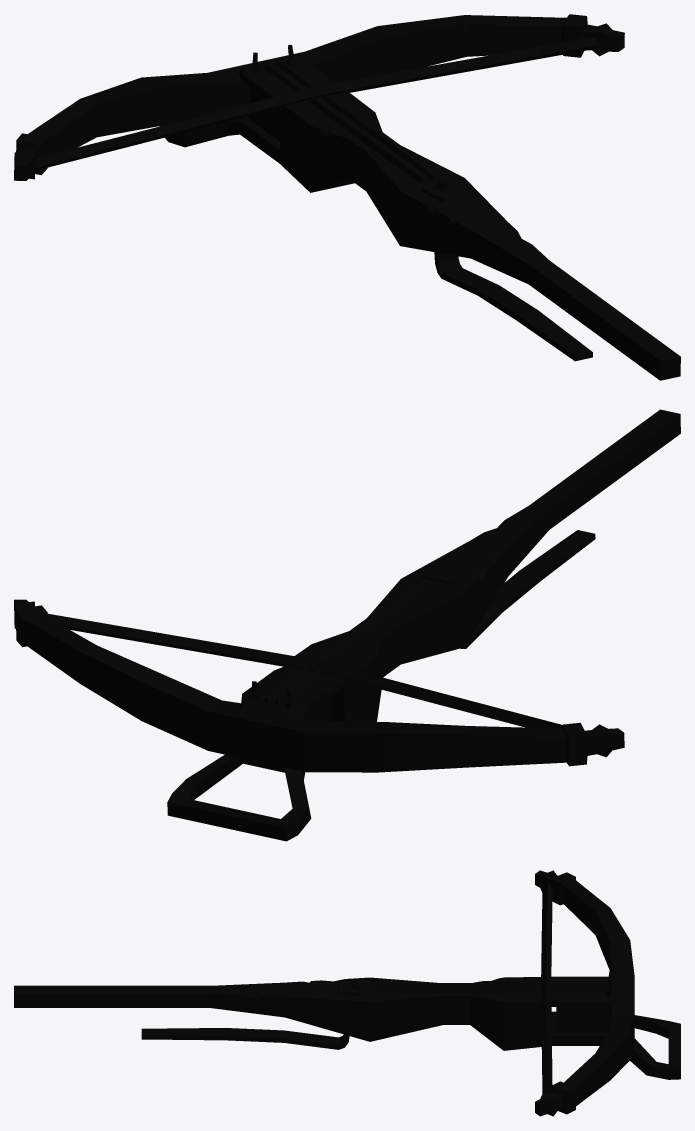
Rendered from Rigged_CrossBow_Testing.fbx.
3 views of the same model, one above another, from view 1: azimuth 30°, elevation 25°; view 2: azimuth 150°, elevation 25°; view 3: azimuth 270°, elevation 25° (orthographic). The views are drawn at different scales.
Parts seen in each view (by area): view 1: node_id4 (×2); view 2: node_id4 (×2); view 3: node_id4 (×2).
Boxes of the visible parts, <box> form: node_id4 (×2): <box>14,14,680,380</box>; node_id4 (×2): <box>14,409,680,841</box>; node_id4 (×2): <box>14,870,680,1116</box>.
Bounding box in the file's own units: 0.5121 × 0.0882 × 0.647.
2 materials, 2 textured.
